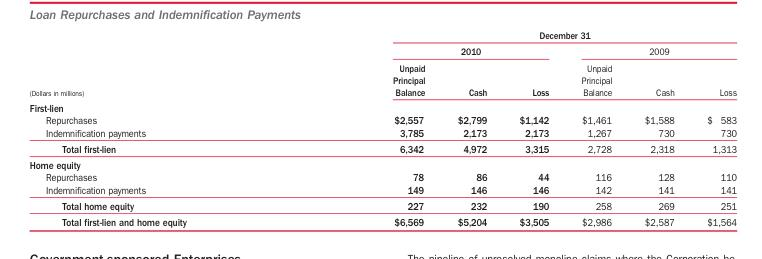table: (28, 29, 736, 227)
table column: (28, 29, 289, 227), (289, 29, 440, 227), (564, 29, 627, 227), (627, 29, 690, 227), (440, 29, 502, 227), (502, 29, 564, 227), (690, 29, 736, 227)
table column header: (28, 29, 736, 99)
table projected row header: (28, 99, 736, 113), (28, 156, 736, 170)
table row: (28, 59, 736, 99), (28, 43, 736, 59), (28, 140, 736, 156), (28, 197, 736, 213), (28, 29, 736, 43), (28, 99, 736, 113), (28, 126, 736, 140), (28, 156, 736, 170), (28, 183, 736, 197), (28, 213, 736, 227), (28, 113, 736, 126), (28, 170, 736, 183)
table spanning cell: (28, 29, 289, 99), (289, 29, 736, 43), (289, 43, 564, 59), (564, 43, 736, 59)
